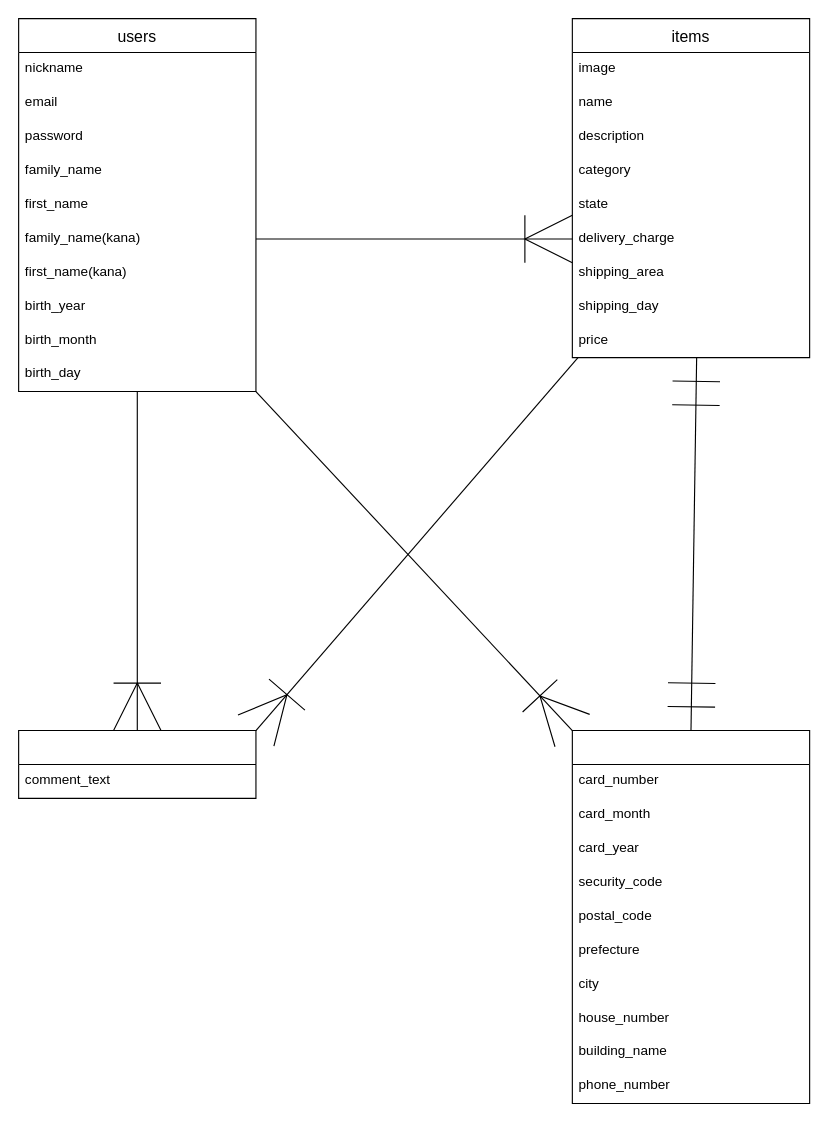
Some shapes in this 828 by 1122 pixel diagram are drawn without their labels. The box of each missing label's shape, as (x1, y1, x2, y2) in pixels:
comments: (18, 729, 256, 798)
informations: (571, 729, 810, 1103)
